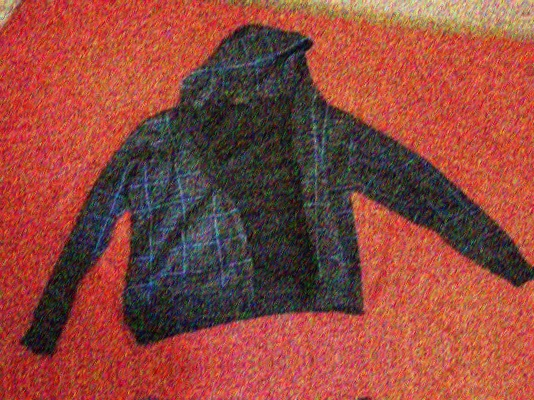Hoodie: (0, 5, 534, 375), (19, 351, 534, 400)
